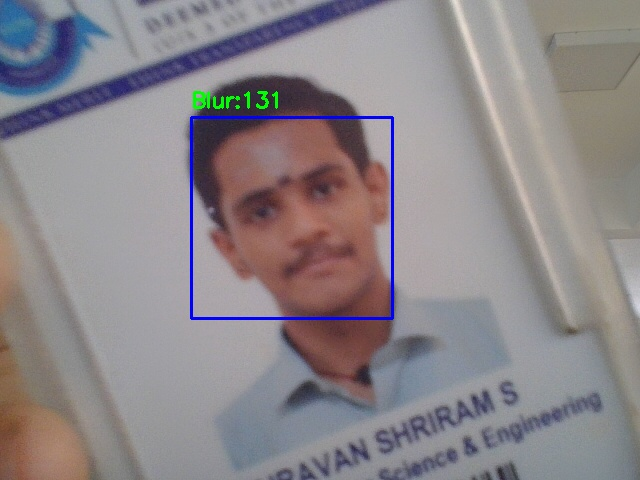fake: (191, 117, 392, 318)
